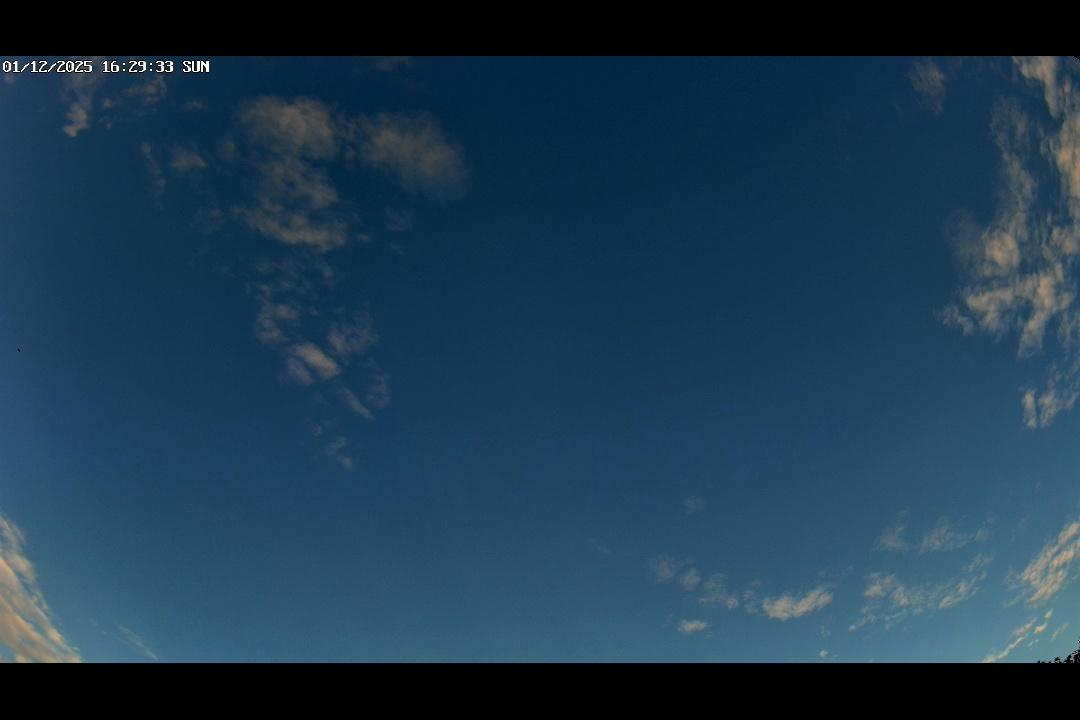WildLife: (11, 343, 29, 356)
